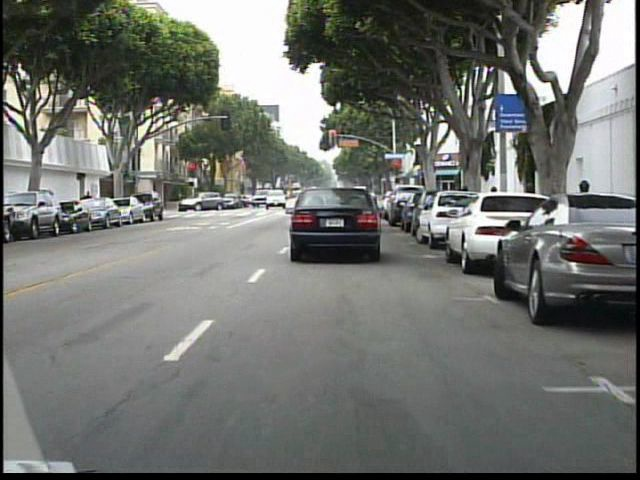person: (81, 187, 98, 224), (177, 190, 192, 216)
